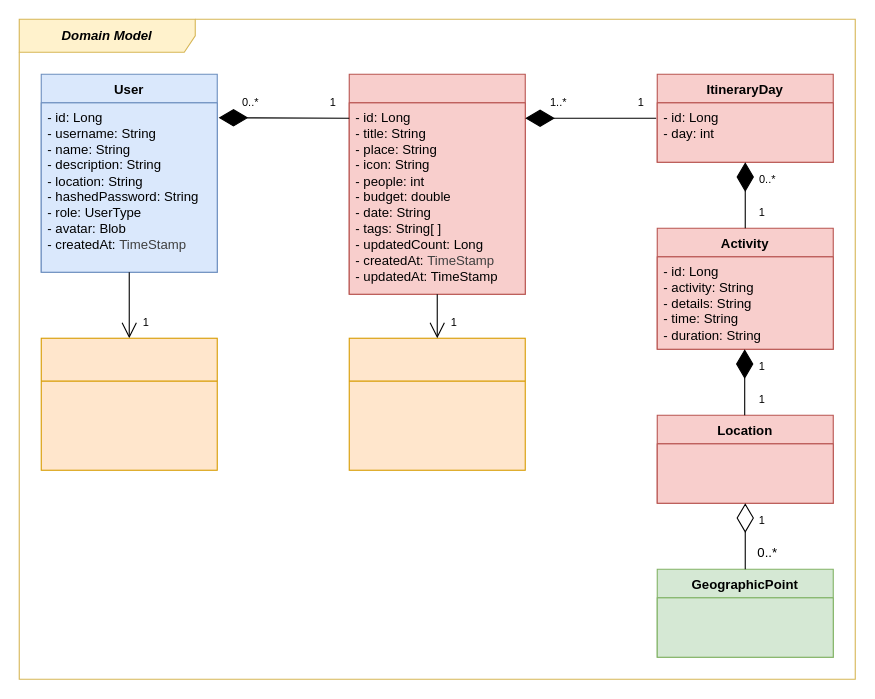
Some shapes in this 875 by 699 pixel diagram are drawn without their labels. The box of each missing label's shape, as (x1, y1, x2, y2) in pixels:
- id: Long - latitude: Double - longitude: Double: (656, 597, 833, 657)
- id: Long - name: String - address: String: (656, 443, 833, 503)
<<Enumeration>> ItineraryStatus + DRAFT + PLANNED + ONGOING + COMPLETED: (348, 337, 525, 470)
<<Enumeration>> UserType + USER + ADMIN: (40, 337, 217, 470)
Itinerary: (348, 73, 525, 294)
